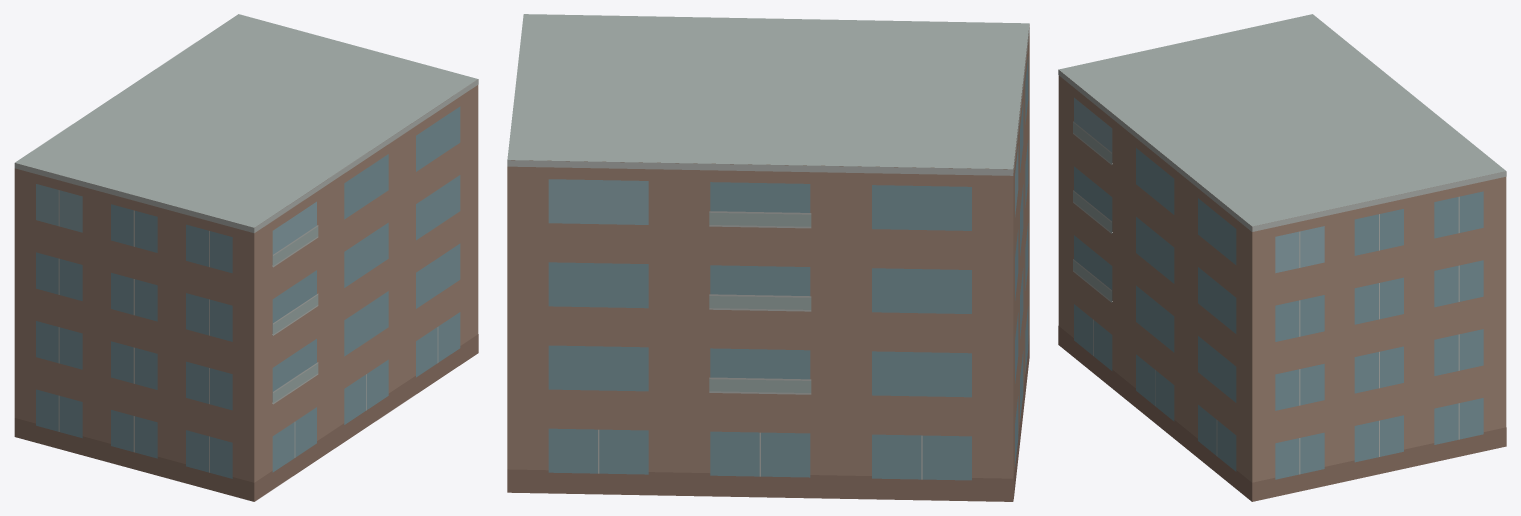
File: survey-upis-32706706.glb
The picture shows the model from 3 angles, left to right: view 1: azimuth 30°, elevation 25°; view 2: azimuth 150°, elevation 25°; view 3: azimuth 270°, elevation 25°; orthographic projection. The views are drawn at different scales.
Parts seen in each view (by area): view 1: survey-upis-32706706.tmp; view 2: survey-upis-32706706.tmp; view 3: survey-upis-32706706.tmp.
Boxes of the visible parts, x1,y1,x2,y2 form: survey-upis-32706706.tmp: (14, 14, 478, 501); survey-upis-32706706.tmp: (507, 14, 1029, 501); survey-upis-32706706.tmp: (1058, 14, 1506, 501).
Size of the model in its own units: 20.21 by 12.2 by 18.
